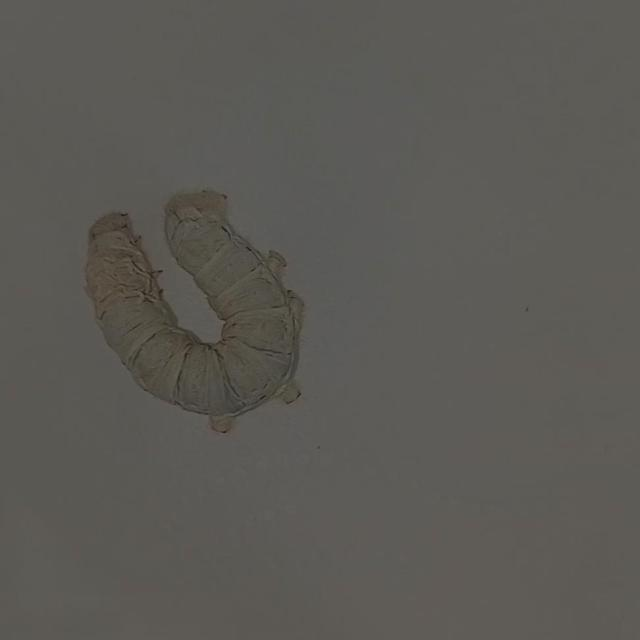Healthy: (58, 172, 349, 452)
